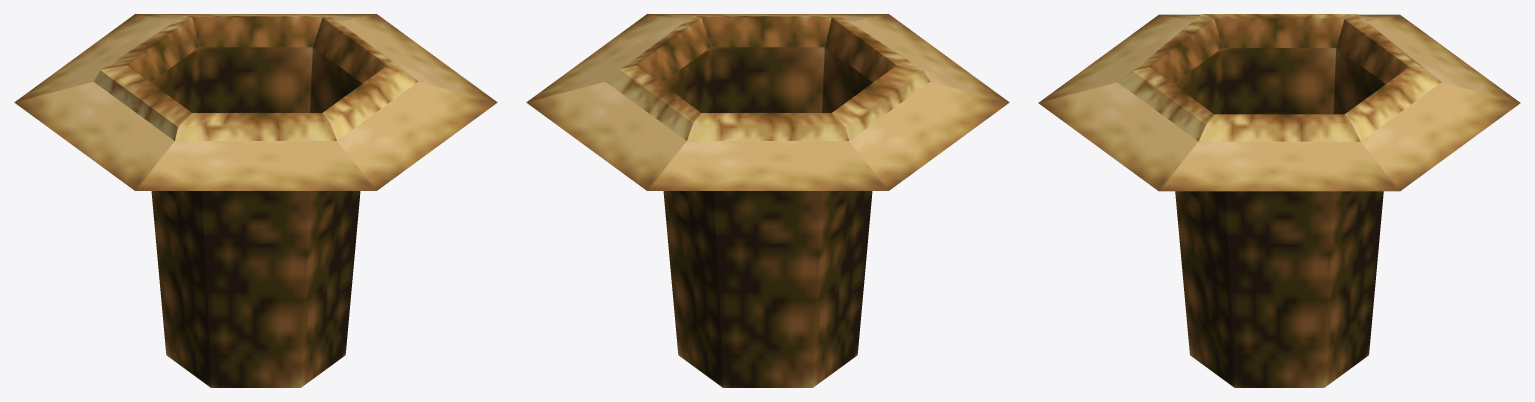
File: Poly_Hole_02_Down.obj
3 views of the same model, side by side, from view 1: azimuth 30°, elevation 25°; view 2: azimuth 150°, elevation 25°; view 3: azimuth 270°, elevation 25° (orthographic).
Visible parts, largest first — view 1: Circle; view 2: Circle; view 3: Circle.
Boxes of the visible parts, left/top/right/bottom form: Circle: left=14, top=14, right=497, bottom=387; Circle: left=526, top=14, right=1009, bottom=387; Circle: left=1038, top=14, right=1520, bottom=387.
Size of the model in its own units: 1.39 by 1.06 by 1.6.
Materials: 1 (1 with a texture image).
